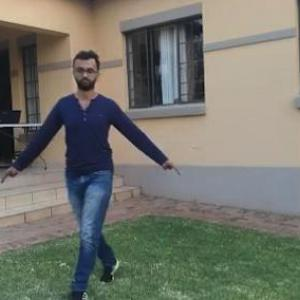land: (35, 68, 169, 264)
